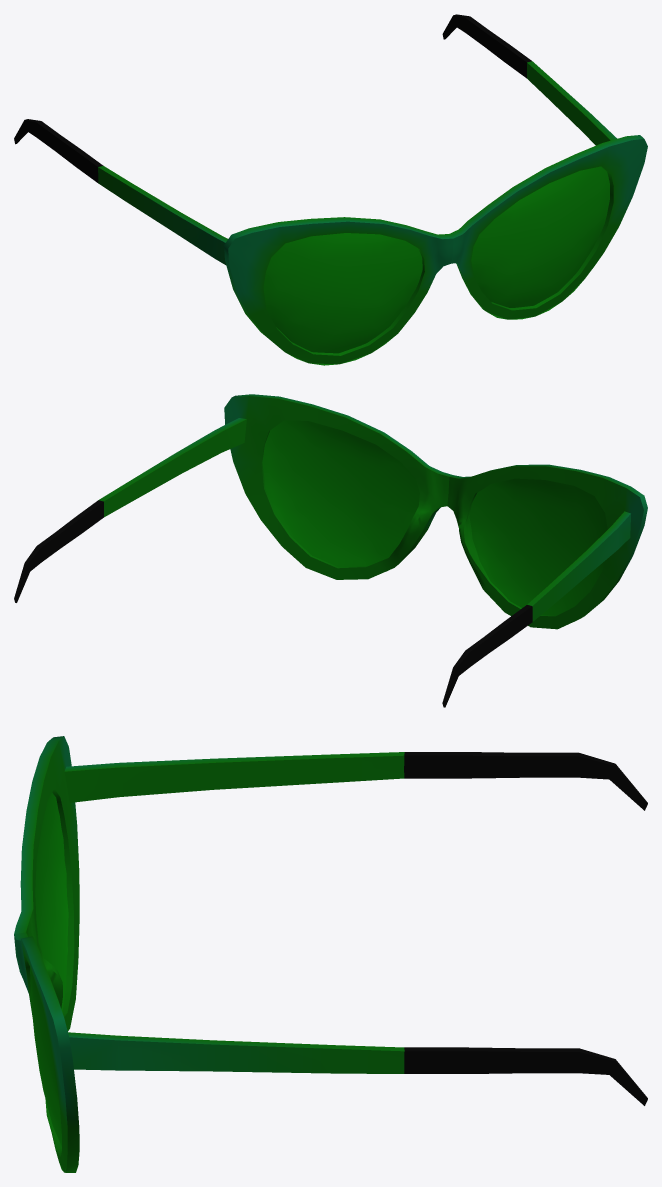
The model's file is Glasses_OldWoman.fbx.
3 views of the same model, one above another, from view 1: azimuth 30°, elevation 25°; view 2: azimuth 150°, elevation 25°; view 3: azimuth 270°, elevation 25° (orthographic). The views are drawn at different scales.
Parts seen in each view (by area): view 1: steklo1; view 2: steklo1; view 3: steklo1.
Part boxes in pixels (left/top/right/bottom): steklo1: left=14, top=14, right=647, bottom=365; steklo1: left=14, top=394, right=647, bottom=707; steklo1: left=14, top=736, right=647, bottom=1172.
Size of the model in its own units: 46.58 by 16.45 by 41.7.
